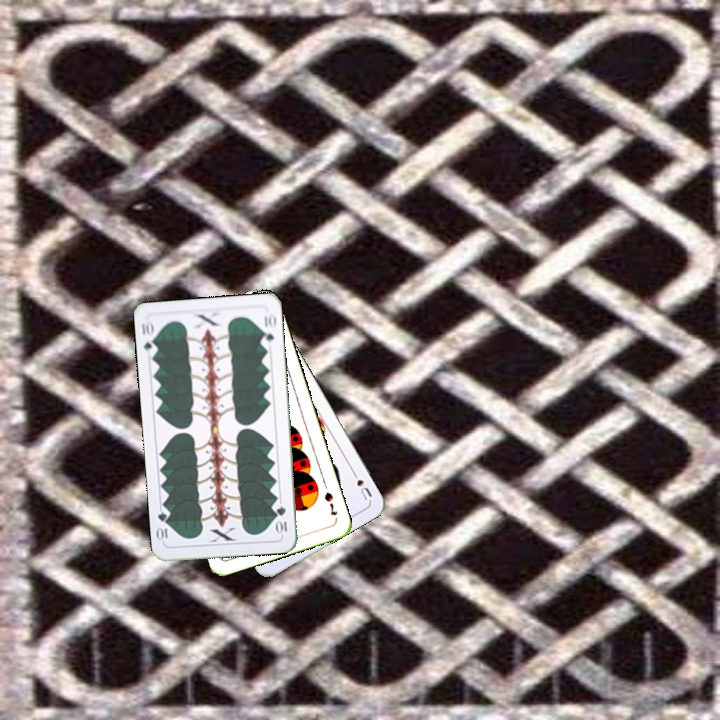G10: (137, 317, 159, 358), (273, 502, 290, 537)
S7: (320, 488, 340, 518)
SU: (347, 465, 375, 503)
